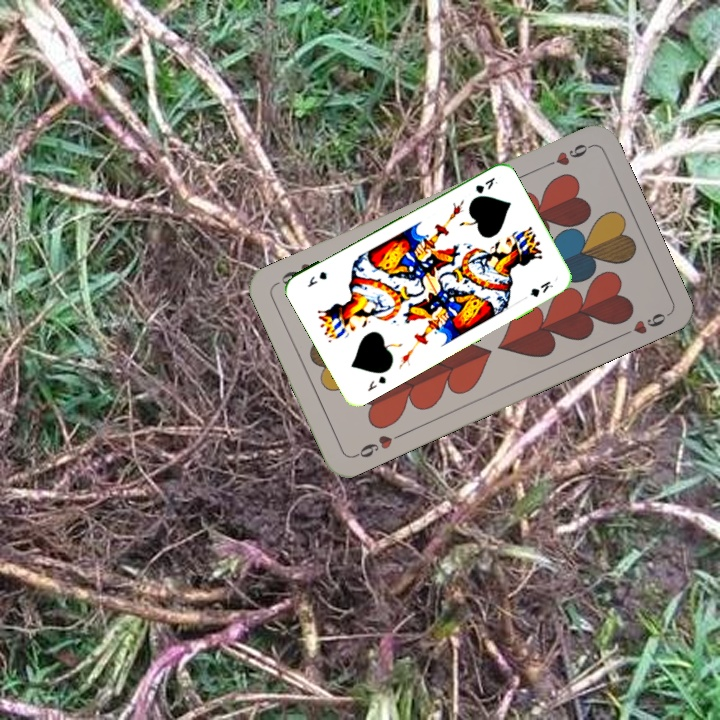GK: (470, 173, 500, 196), (363, 372, 389, 394)
H9: (537, 139, 593, 172), (349, 429, 405, 461)
